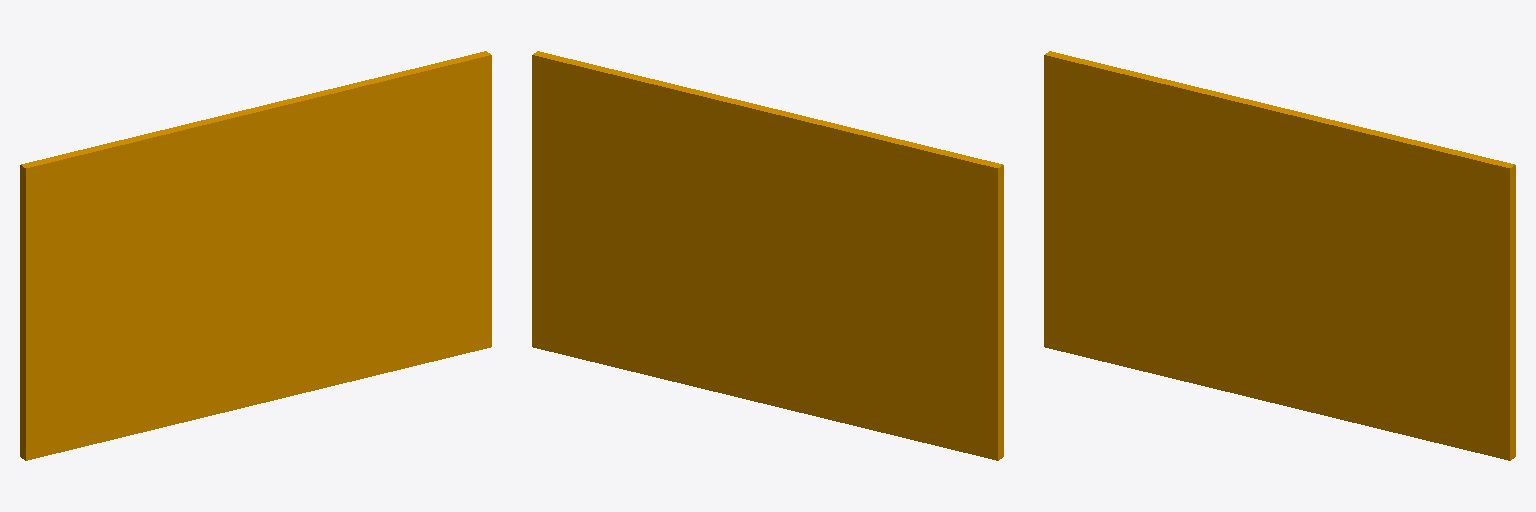
URDF robot description (simple_box2):
<robot name="simple_box2">
  <link name="cube">
    <inertial>
      <origin xyz="0 0 0" /> 
      <mass value="100.0" />
      <inertia  ixx="1.0" ixy="0.0"  ixz="0.0"  iyy="1.0"  iyz="0.0"  izz="1.0" />
    </inertial>
    <visual>
      <origin xyz="0 0 0"/>
      <geometry>
        <box size="5 0.1 3" />
      </geometry>
    </visual>
    <collision>
      <origin xyz="0 0 0"/>
      <geometry>
        <box size="5 0.1 3" />
      </geometry>
    </collision>
  </link>
  <link name="world" />

  <joint name="world_joint" type="fixed">
    <parent link="world" />
    <child link = "cube" />
    <origin xyz="0.0 0.0 0.0" rpy="0.0 0.0 0.0" />
  </joint>
</robot>

--- What the picture shows (computed from the rendered views, not written in the file) ---
The picture shows the robot from 3 angles, left to right: view 1: azimuth 30°, elevation 25°; view 2: azimuth 150°, elevation 25°; view 3: azimuth 330°, elevation 25°; orthographic projection.
Model simple_box2 with 2 links and 1 joints (1 fixed), rooted at world, posed every joint at zero.
Visible links, largest first — view 1: cube; view 2: cube; view 3: cube.
Link boxes in pixels (left/top/right/bottom): cube: left=20, top=51, right=491, bottom=460; cube: left=532, top=51, right=1003, bottom=460; cube: left=1044, top=51, right=1515, bottom=460.
Size in the robot's own frame: 5 by 0.1 by 3 metres.
Geometry: primitives only (box / cylinder / sphere), no mesh files.
